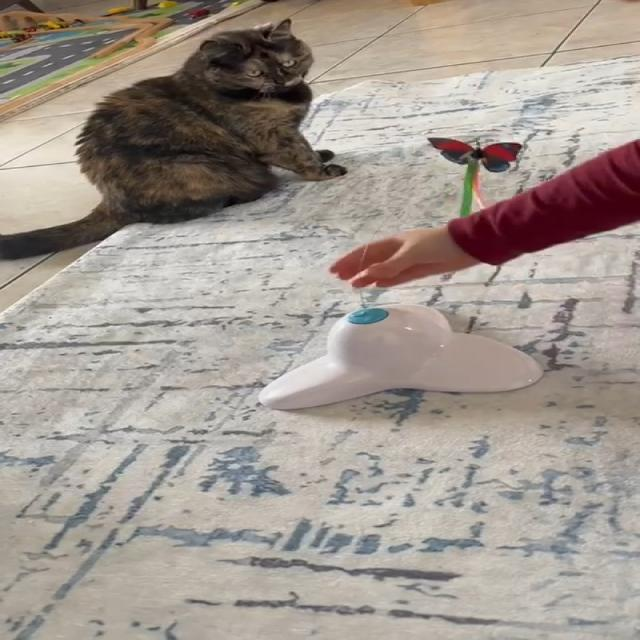authorized: (0, 18, 347, 260)
